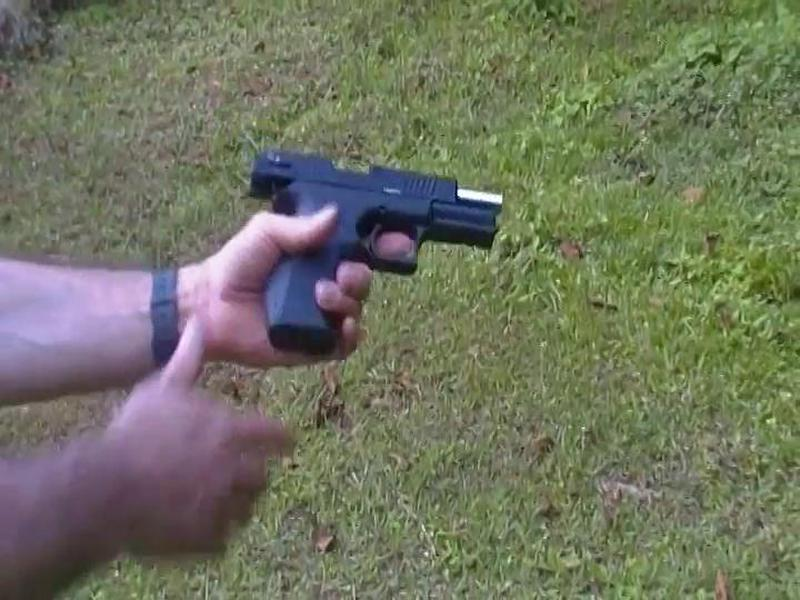Pistola: (225, 132, 532, 358)
